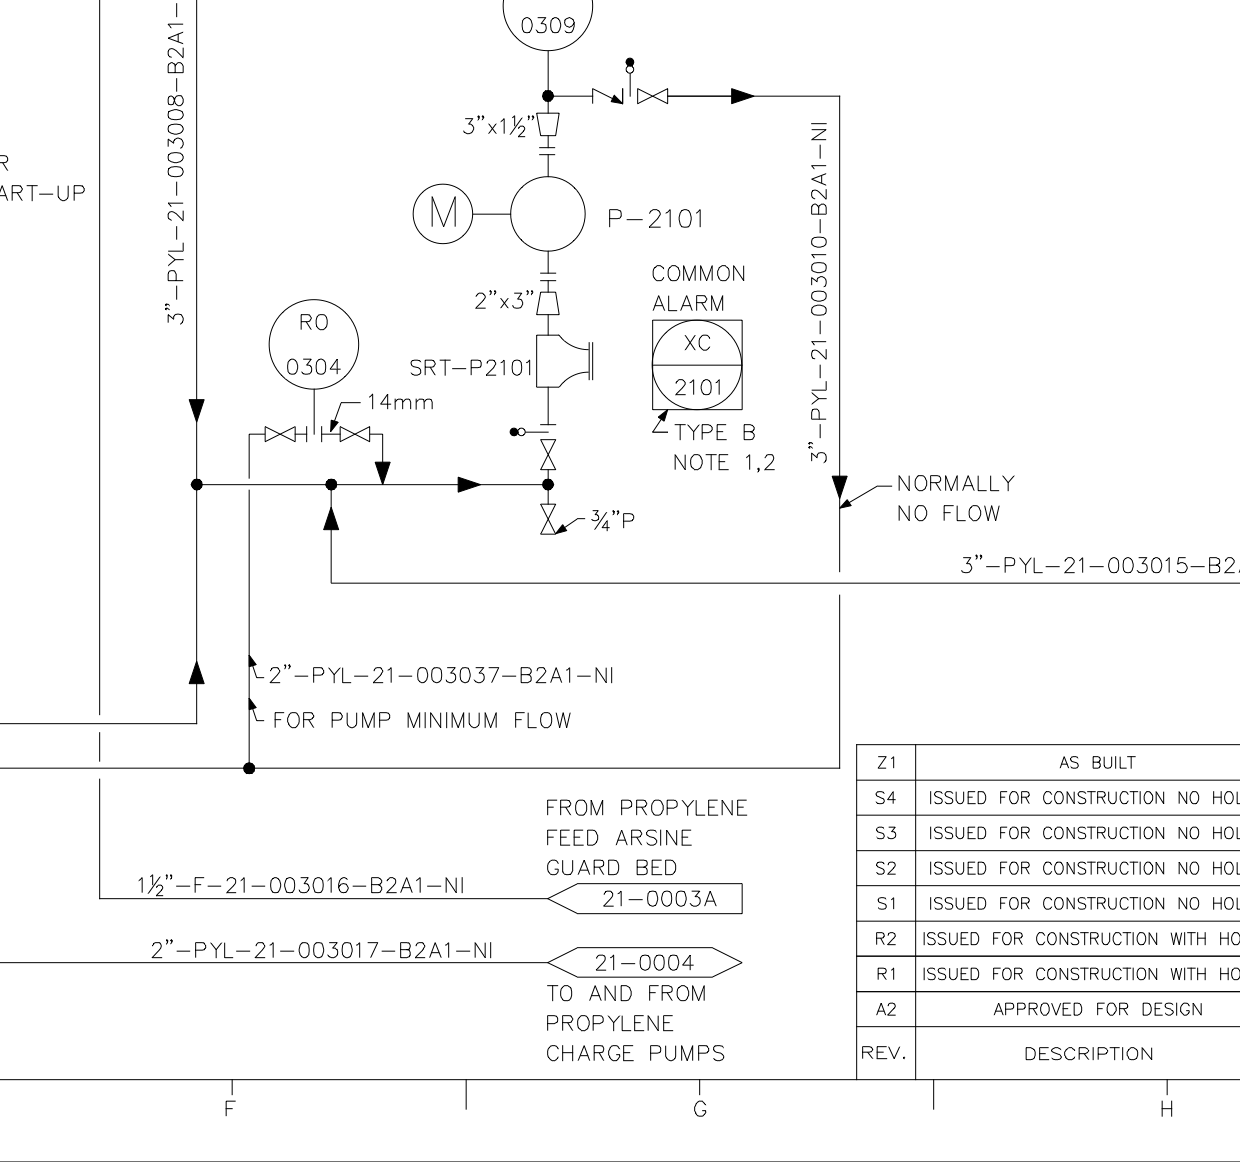Check Valve: (588, 85, 626, 107)
Line Number: (147, 929, 498, 960), (266, 659, 617, 689), (135, 866, 471, 897), (805, 116, 831, 468), (950, 549, 1240, 579)
Page In: (536, 878, 755, 918)
Spetacle Blind: (619, 53, 644, 109)
